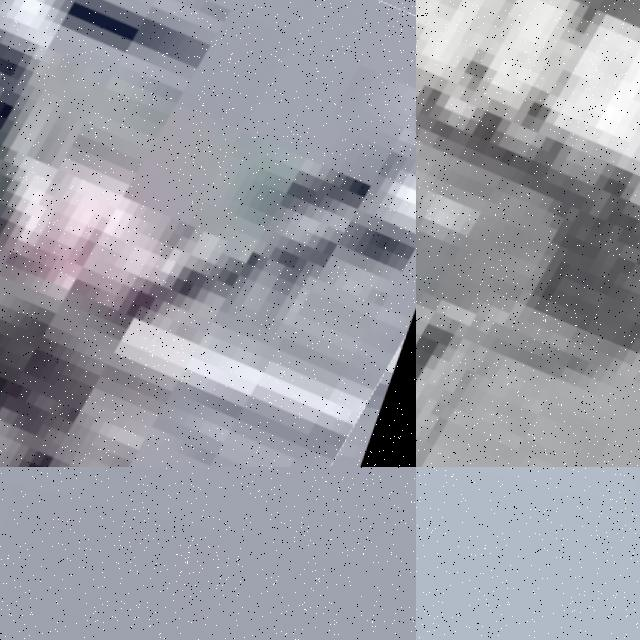drone: (0, 0, 416, 467), (416, 0, 640, 467)
